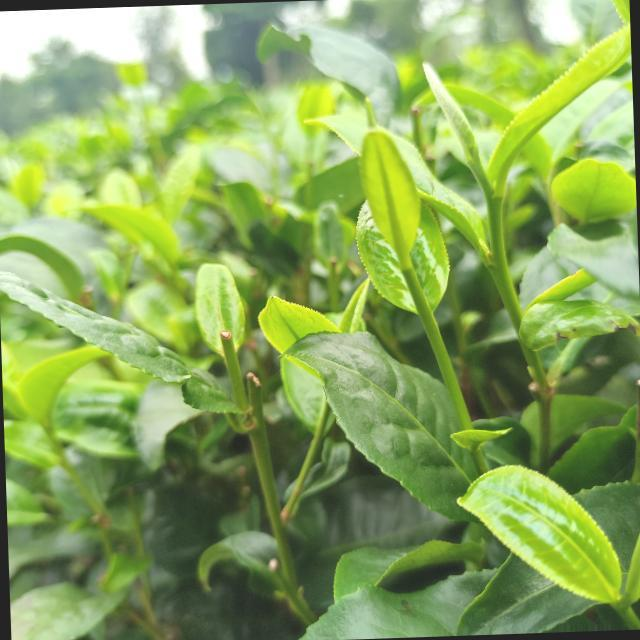Stem: (487, 198, 503, 220), (425, 314, 437, 334)
